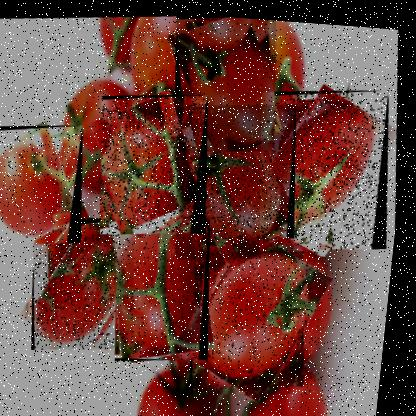tomato: (250, 76, 403, 253), (183, 224, 335, 399), (167, 92, 310, 262), (91, 84, 221, 239), (108, 205, 225, 364), (163, 10, 287, 156), (26, 209, 149, 355), (0, 118, 95, 251)
